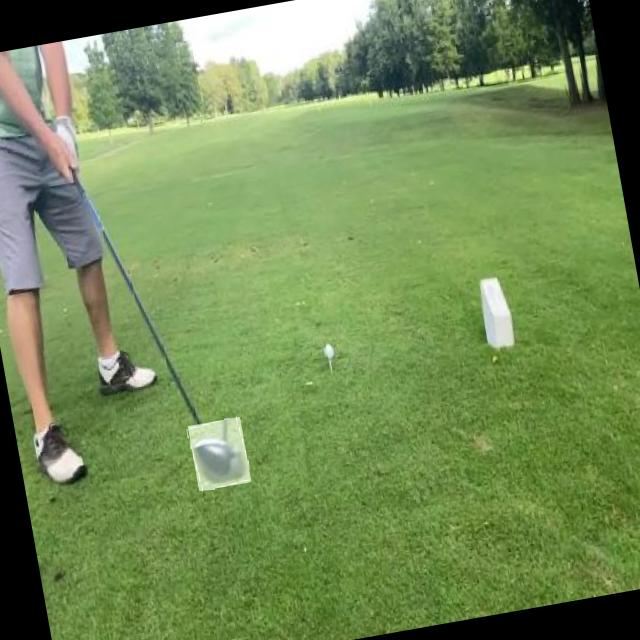club head: (187, 416, 251, 491)
